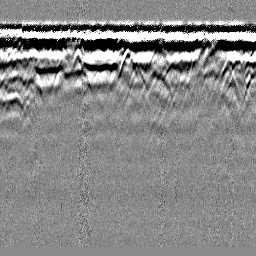cavity: (118, 47, 135, 84)
